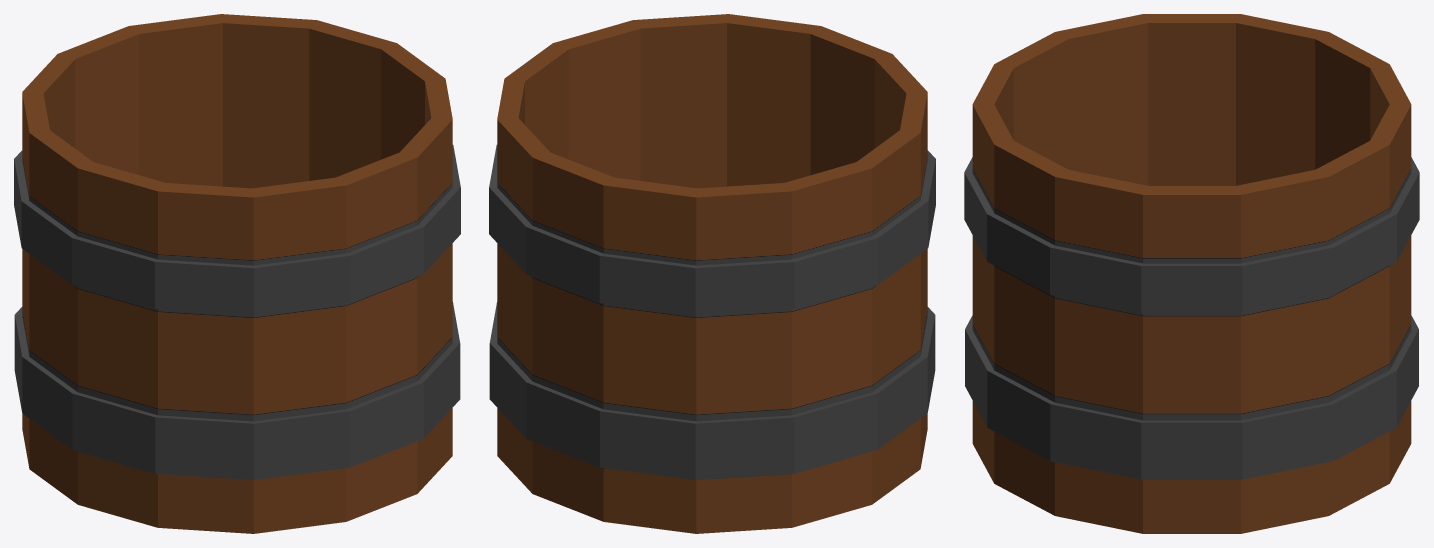
Rendered from Buket.fbx.
3 views of the same model, side by side, from view 1: azimuth 30°, elevation 25°; view 2: azimuth 150°, elevation 25°; view 3: azimuth 270°, elevation 25° (orthographic).
Parts seen in each view (by area): view 1: Cylinder; view 2: Cylinder; view 3: Cylinder.
Part boxes in pixels (x1,y1,x2,y2): Cylinder: (14, 14, 460, 533); Cylinder: (489, 14, 935, 533); Cylinder: (964, 14, 1419, 533).
Bounding box in the file's own units: 95.57 × 80.55 × 98.03.
